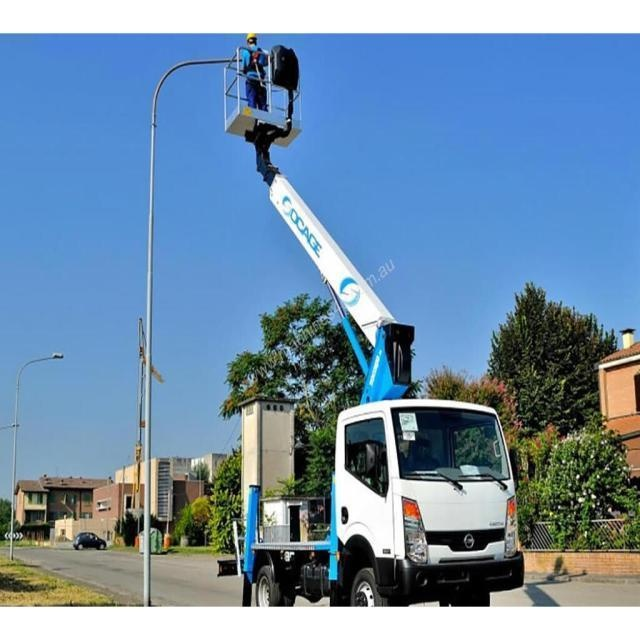Arnes_seguridad: (244, 43, 266, 83)
